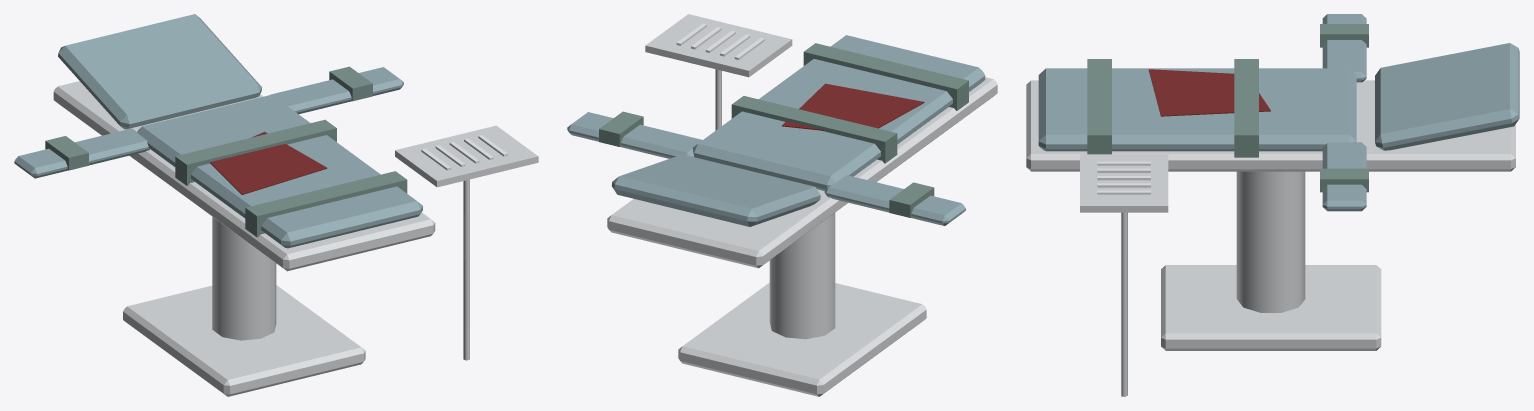
The model's file is hs_table.glb.
3 views of the same model, side by side, from view 1: azimuth 30°, elevation 25°; view 2: azimuth 150°, elevation 25°; view 3: azimuth 270°, elevation 25° (orthographic). The views are drawn at different scales.
Parts seen in each view (by area): view 1: hs_table; view 2: hs_table; view 3: hs_table.
Boxes of the visible parts, x1=… form: hs_table: x1=14, y1=14, x2=538, y2=396; hs_table: x1=567, y1=14, x2=997, y2=396; hs_table: x1=1026, y1=14, x2=1519, y2=396.
Size of the model in its own units: 1.92 by 1.09 by 2.02.
